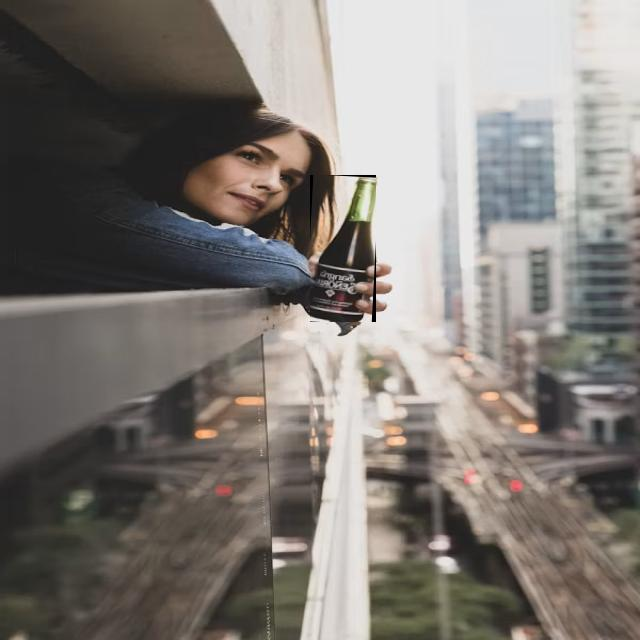Bottle: (309, 175, 375, 322)
